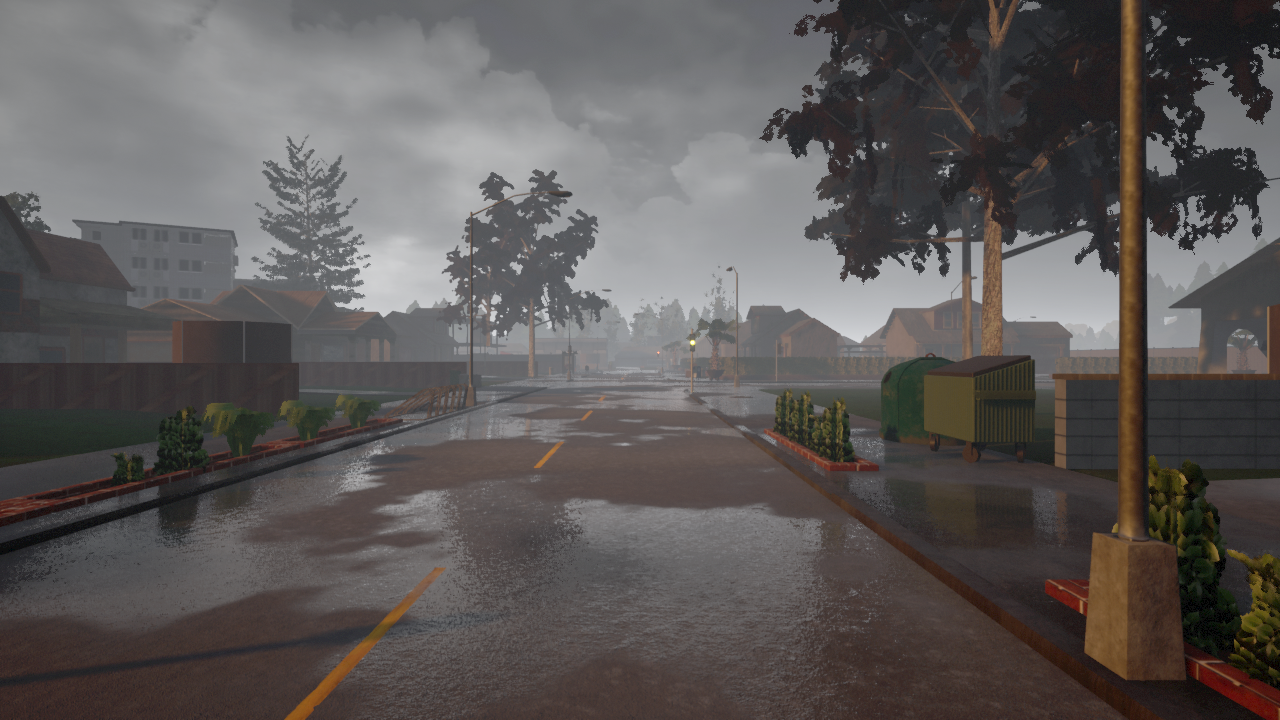yellow: (688, 333, 696, 352)
